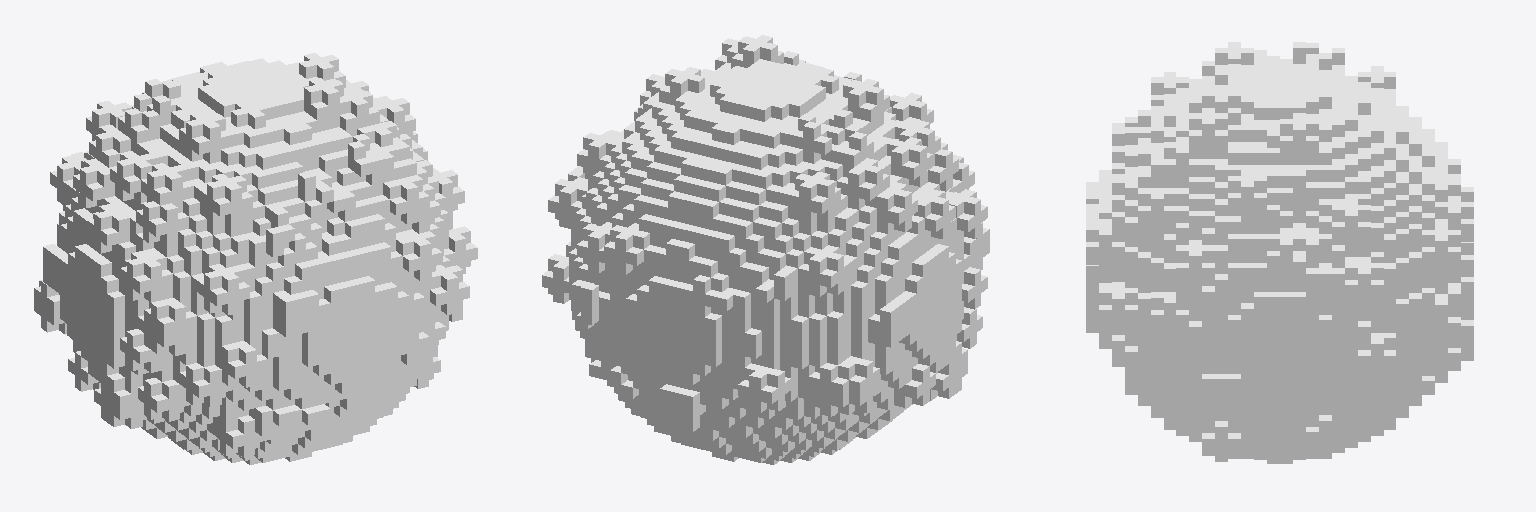
The model's file is tree1-0.obj.
The picture shows the model from 3 angles: view 1: azimuth 30°, elevation 25°; view 2: azimuth 150°, elevation 25°; view 3: azimuth 270°, elevation 25°; orthographic projection.
Parts seen in each view (by area): view 1: object 1; view 2: object 1; view 3: object 1.
Boxes of the visible parts, <box> form: object 1: <box>34,53,477,464</box>; object 1: <box>542,35,989,464</box>; object 1: <box>1086,42,1473,463</box>.
Bounding box in the file's own units: 3 × 3.1 × 3.